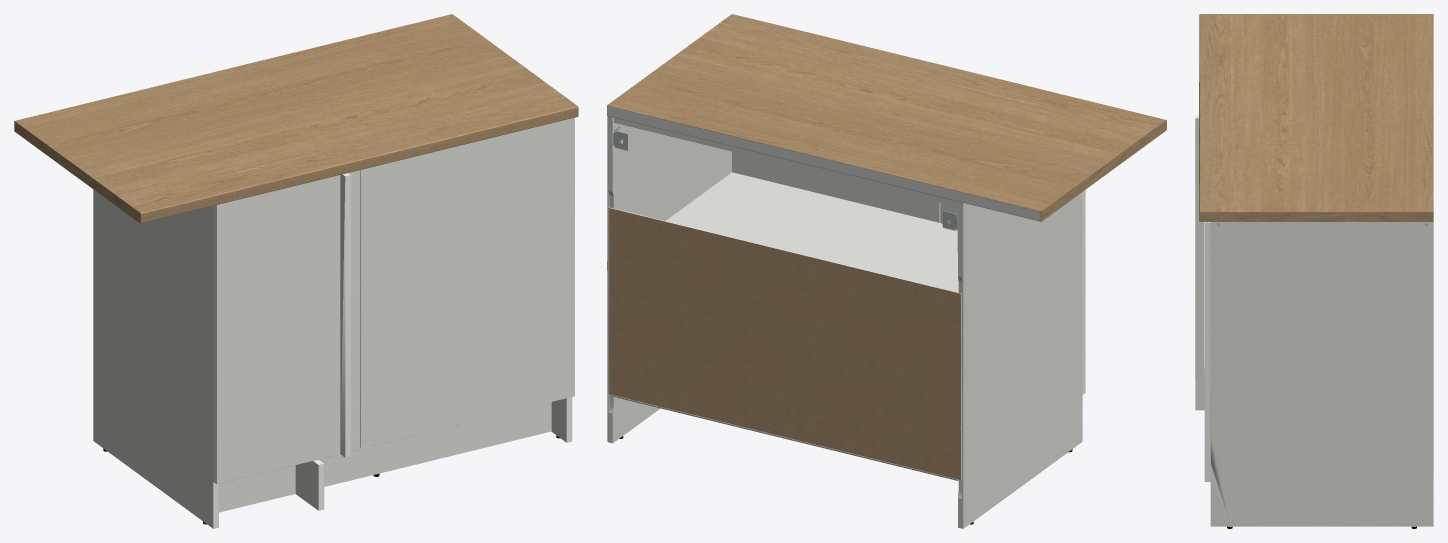
Rendered from knoxhult_szafka_nar_00486129.glb.
3 renders of one model, left to right at view 1: azimuth 30°, elevation 25°; view 2: azimuth 150°, elevation 25°; view 3: azimuth 270°, elevation 25°, orthographic. The views are drawn at different scales.
Parts seen in each view (by area): view 1: knoxhult_szafka_nar_00486129; view 2: knoxhult_szafka_nar_00486129; view 3: knoxhult_szafka_nar_00486129.
Part boxes in pixels (bbox=[...]): knoxhult_szafka_nar_00486129: bbox=[14, 14, 578, 528]; knoxhult_szafka_nar_00486129: bbox=[607, 14, 1166, 528]; knoxhult_szafka_nar_00486129: bbox=[1195, 14, 1433, 528].
Bounding box in the file's own units: 1.22 × 0.9103 × 0.6202.
Materials: 1 (1 with a texture image).
